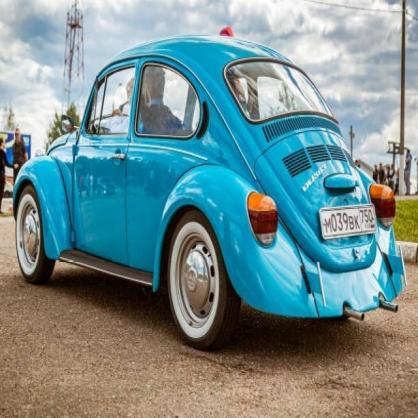car: (13, 28, 410, 345)
